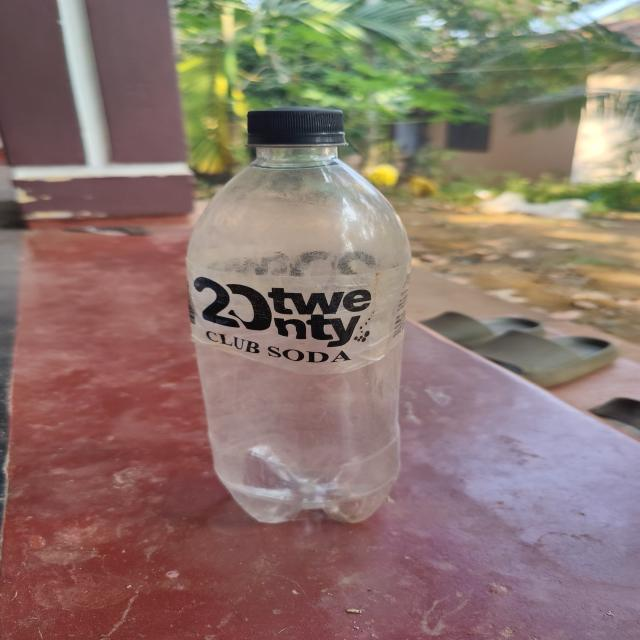plastic: (176, 101, 410, 526)
